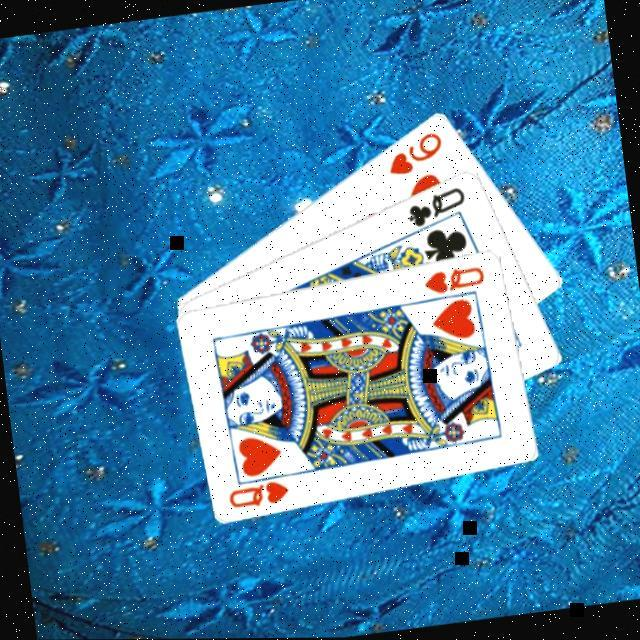9H: (380, 129, 448, 180)
QC: (400, 182, 470, 232)
QH: (222, 469, 300, 513), (418, 262, 488, 300)
